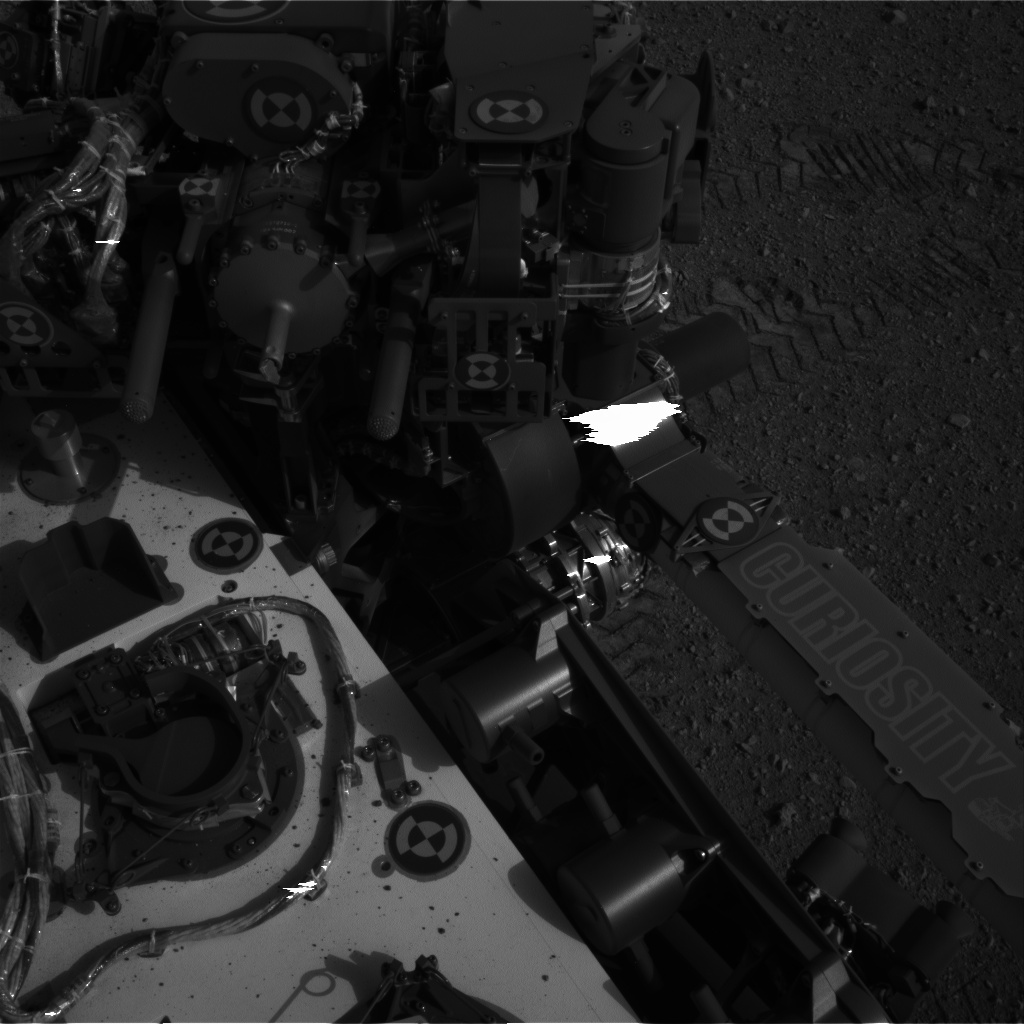soil: (746, 7, 1019, 659), (654, 631, 811, 821)
